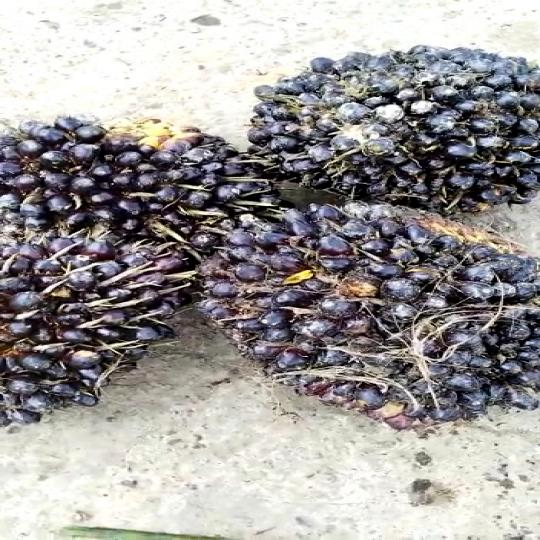mentah: (174, 203, 540, 436), (231, 43, 540, 209), (0, 92, 277, 256), (0, 212, 221, 414)
